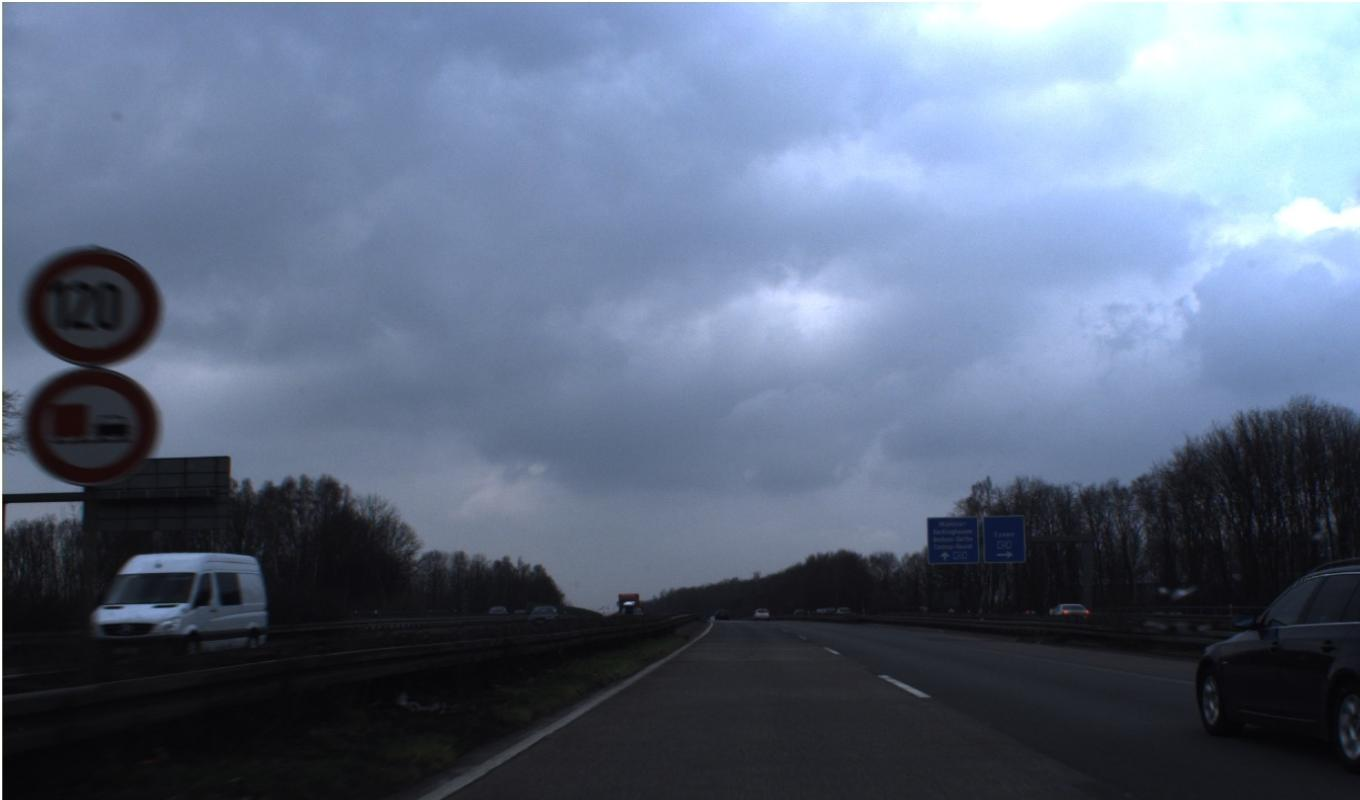no overtaking (trucks): (24, 245, 161, 486)
